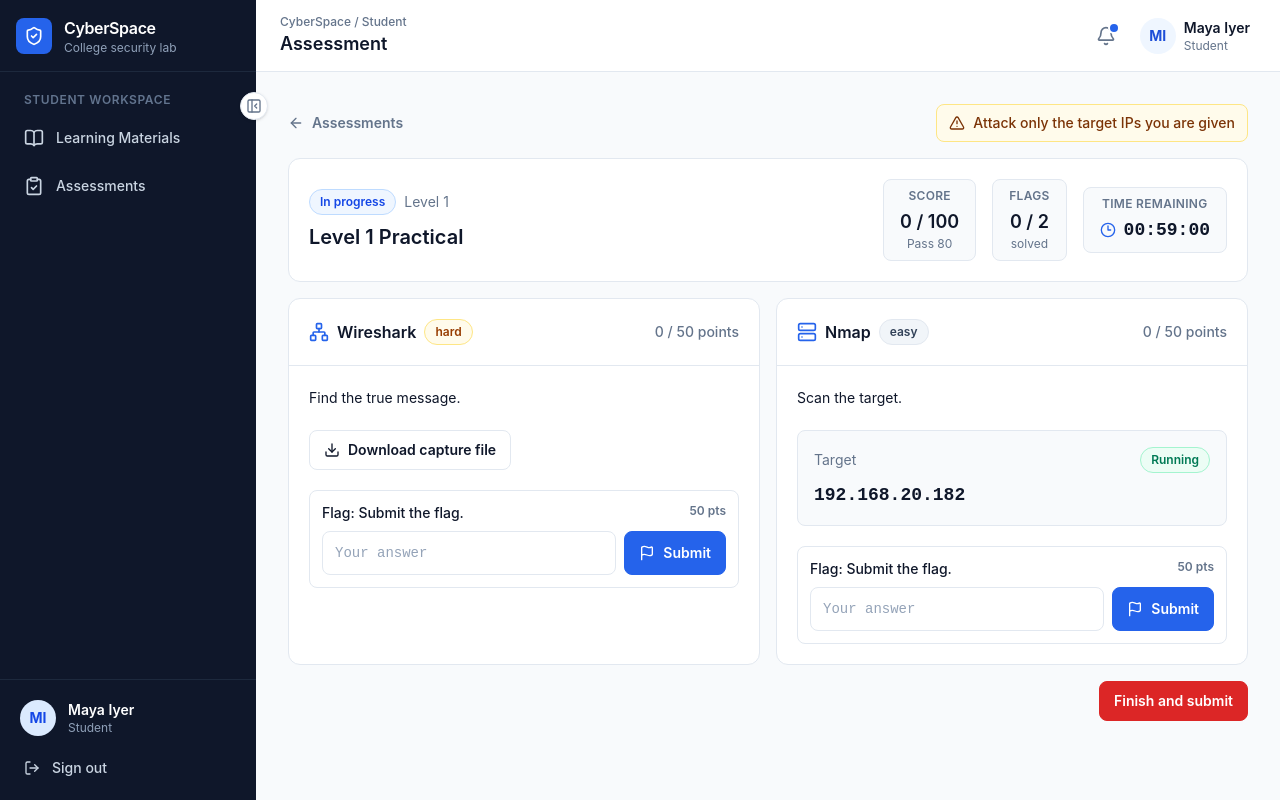
Test: student assessment flow › reports an incorrect flag without revealing anything
Type "guess" into the field labelled "Flag: Submit the flag." below "Download capture file" at (469,553), box [322,531,616,575]
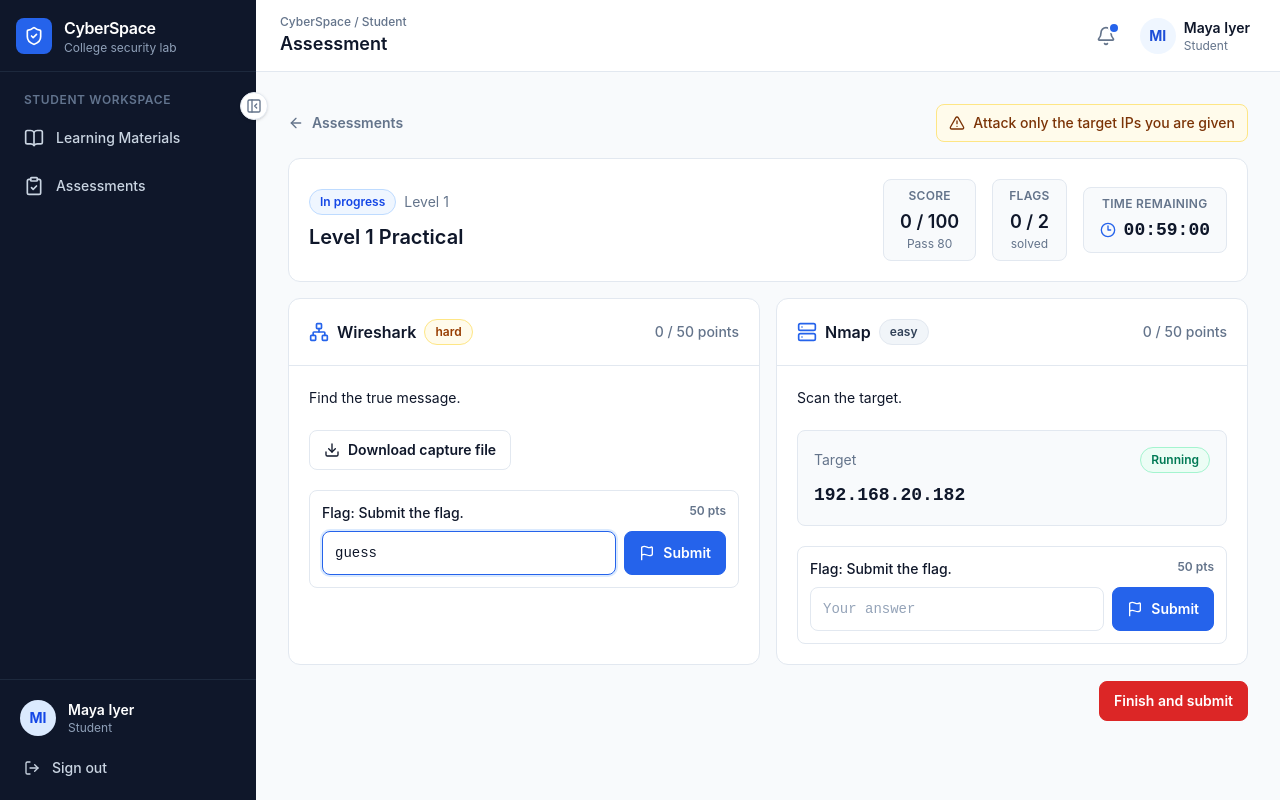
Click the button "Submit" below "Download capture file" at (675,553), box [624,531,726,575]
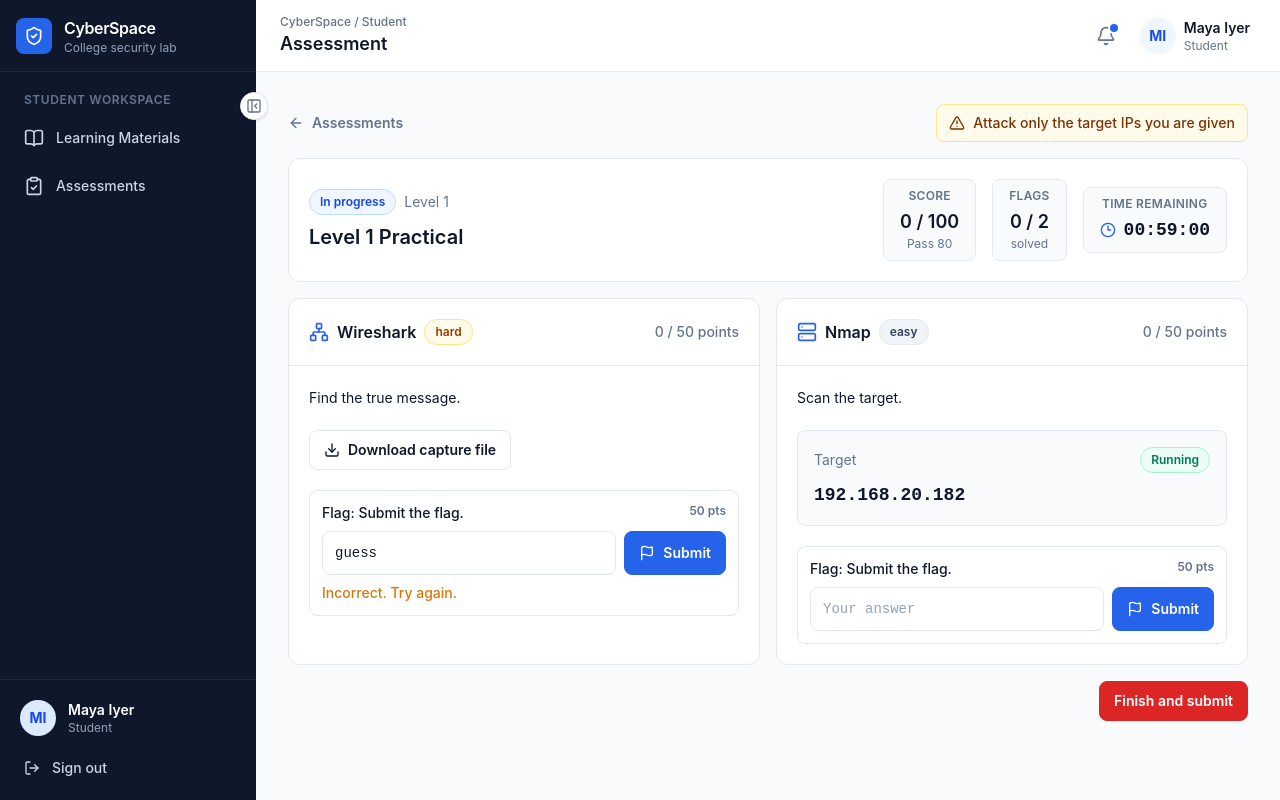
Check: the text "Incorrect. Try again." is shown, box [322,584,457,601]
